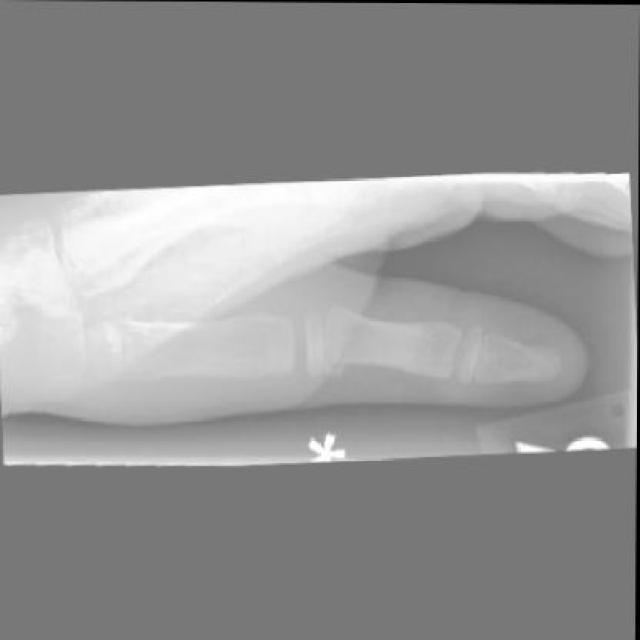Fracture: (314, 304, 367, 378)
